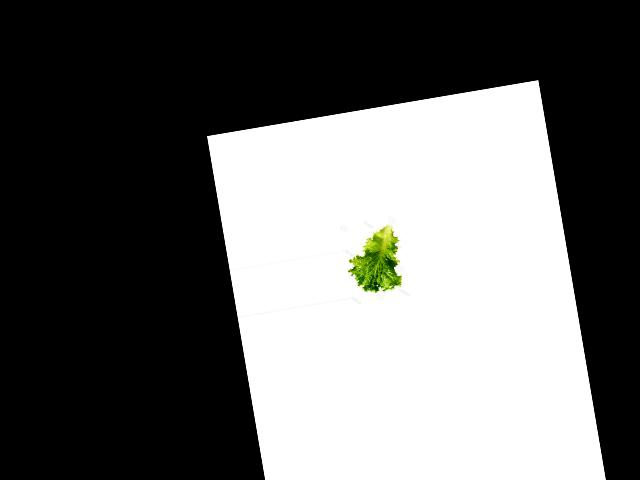lettuce: (342, 223, 403, 296)
